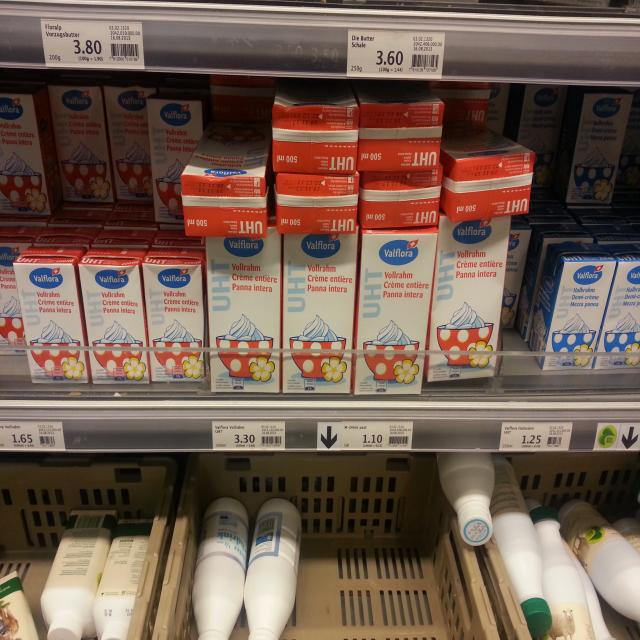Creme: (357, 226, 436, 397), (431, 215, 511, 380), (282, 234, 358, 393), (204, 236, 280, 392), (530, 242, 616, 369), (13, 245, 92, 382), (441, 119, 535, 224), (184, 118, 269, 234), (78, 247, 150, 378), (141, 248, 207, 384), (560, 89, 633, 206), (48, 83, 113, 203), (145, 95, 205, 224), (356, 88, 444, 173), (272, 90, 359, 171), (0, 90, 56, 213), (104, 84, 160, 200), (596, 241, 640, 367), (274, 172, 359, 232), (359, 170, 442, 227)
Milk: (488, 457, 553, 636), (553, 499, 640, 622), (40, 505, 113, 640), (530, 507, 594, 640), (244, 496, 302, 640), (192, 499, 249, 640), (94, 515, 153, 640), (437, 453, 495, 546), (0, 571, 41, 640)
